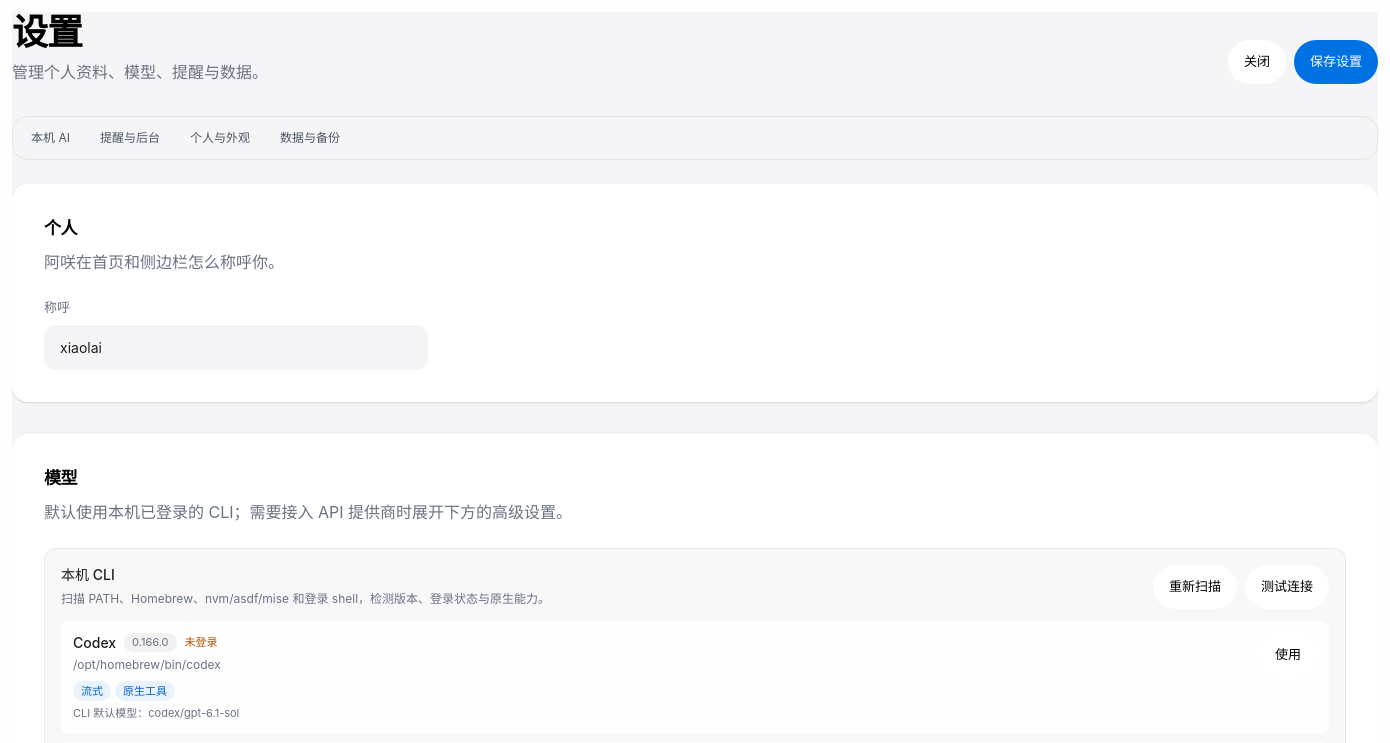
Test case: reports the selected CLI login state when testing the connection
Click the button "测试连接".
click(1287, 586)  # box [1245,564,1329,608]
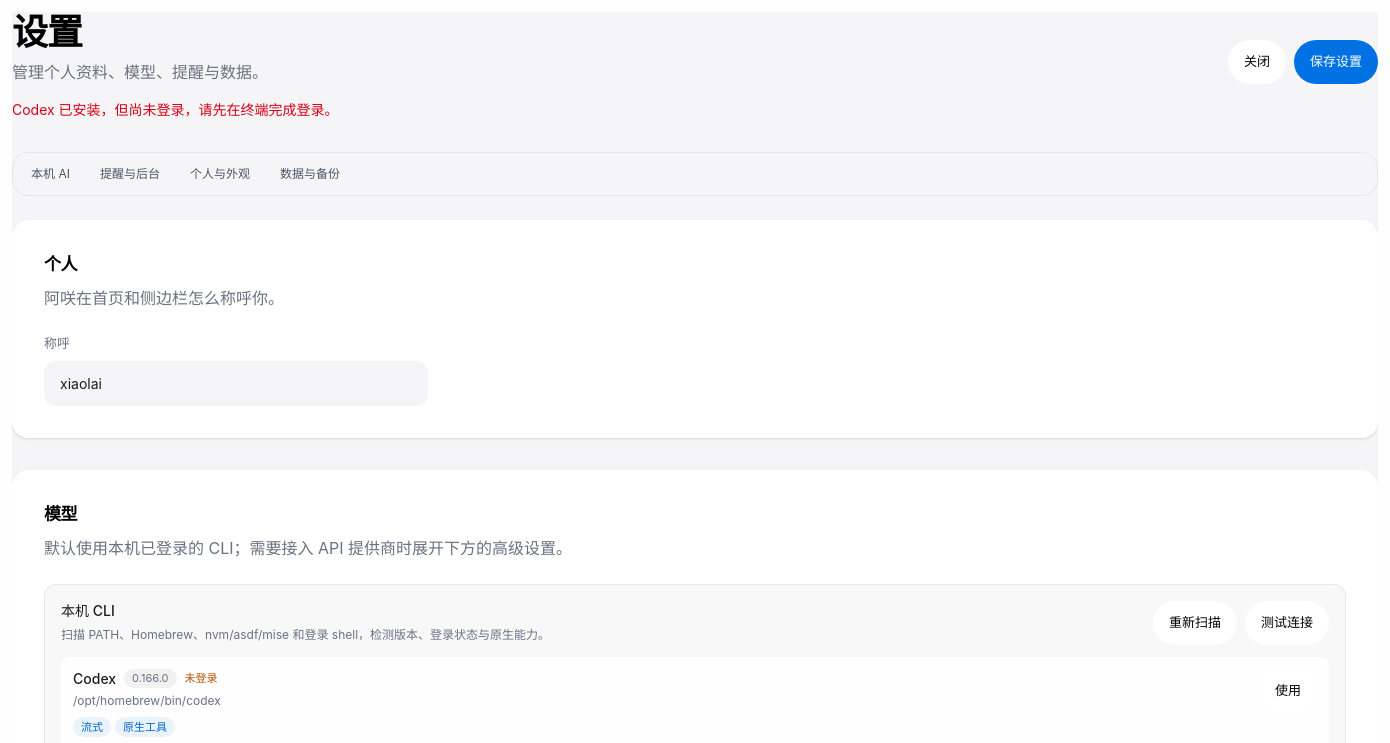
Result: the message shows "尚未登录" at [12,101,339,118]
